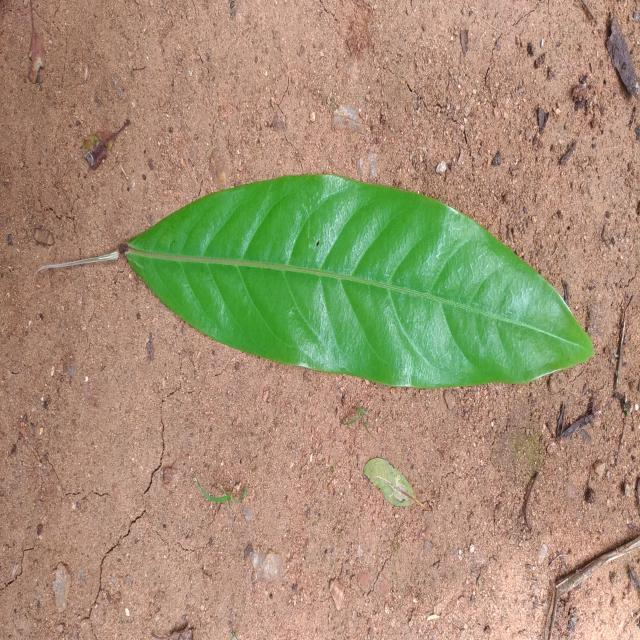seethaashoka: (128, 176, 594, 387)
